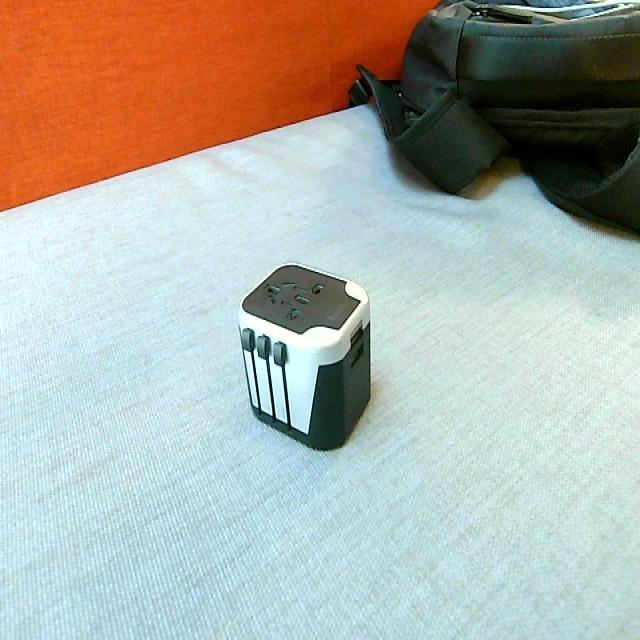adapter: (237, 261, 372, 451)
